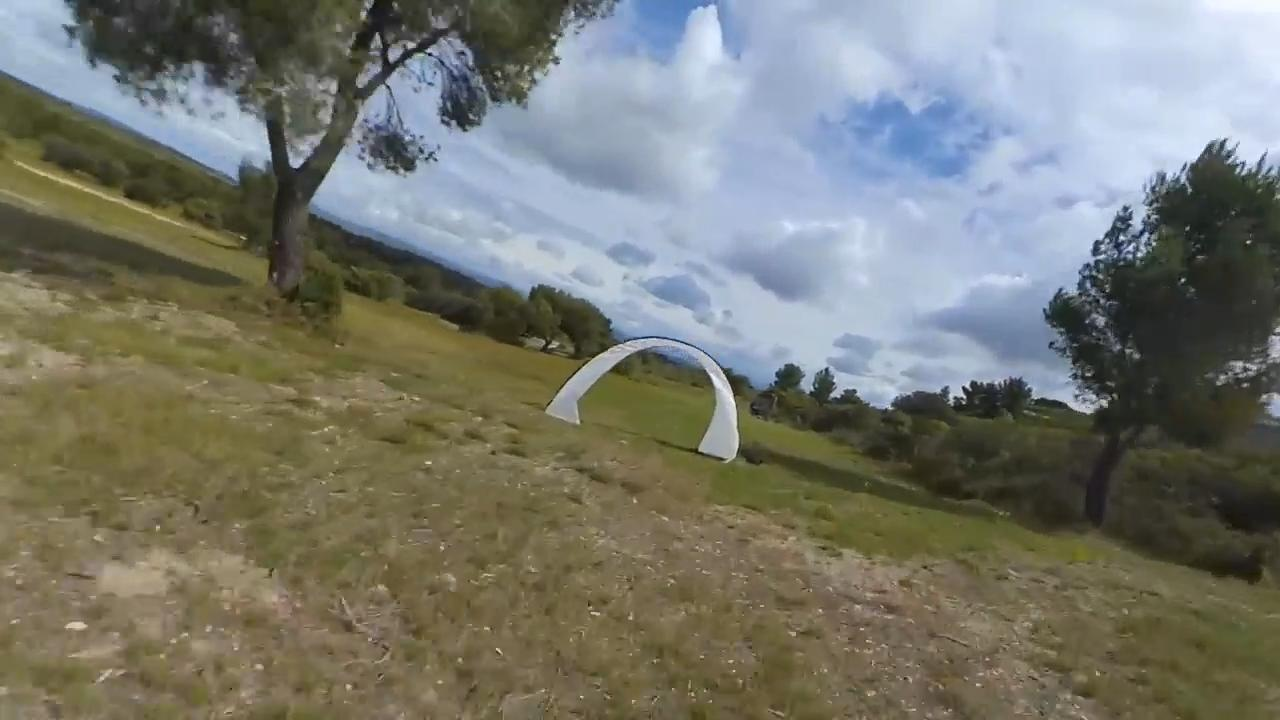gate: (546, 335, 743, 467)
